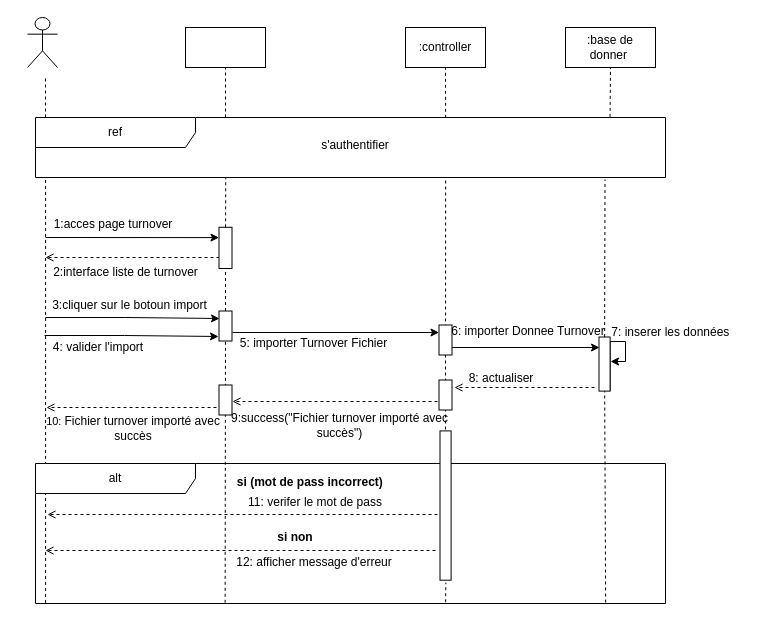
The diagram is 757 pixels wide and 622 high, and some of its shapes have lost their labels. Each missing label, with the box of its shape:
:view: (184, 26, 266, 68)
admin: (26, 16, 58, 68)
